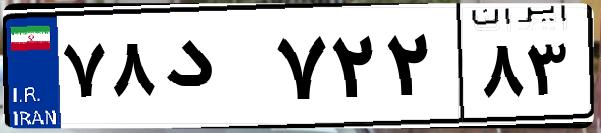2: (385, 28, 445, 110), (330, 28, 385, 110)
3: (525, 38, 570, 115)
7: (270, 28, 330, 110), (57, 26, 110, 100)
8: (475, 38, 525, 113), (110, 28, 158, 98)
د: (158, 20, 270, 120)
